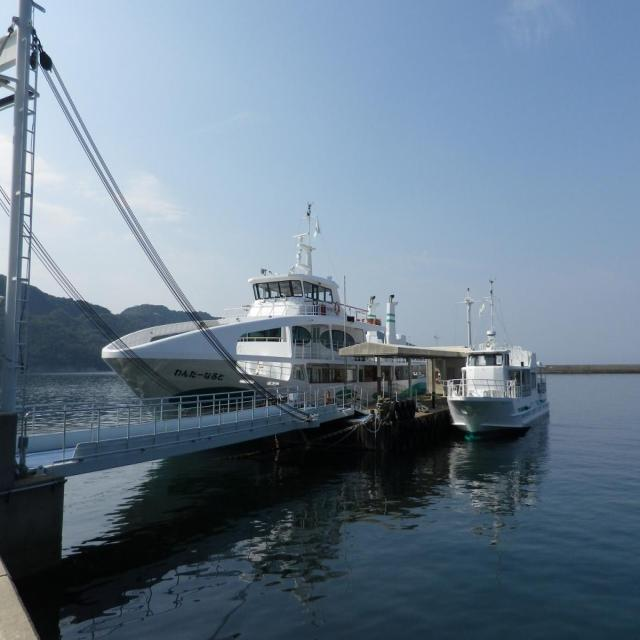houseboat: (92, 220, 428, 400), (447, 312, 554, 435)
